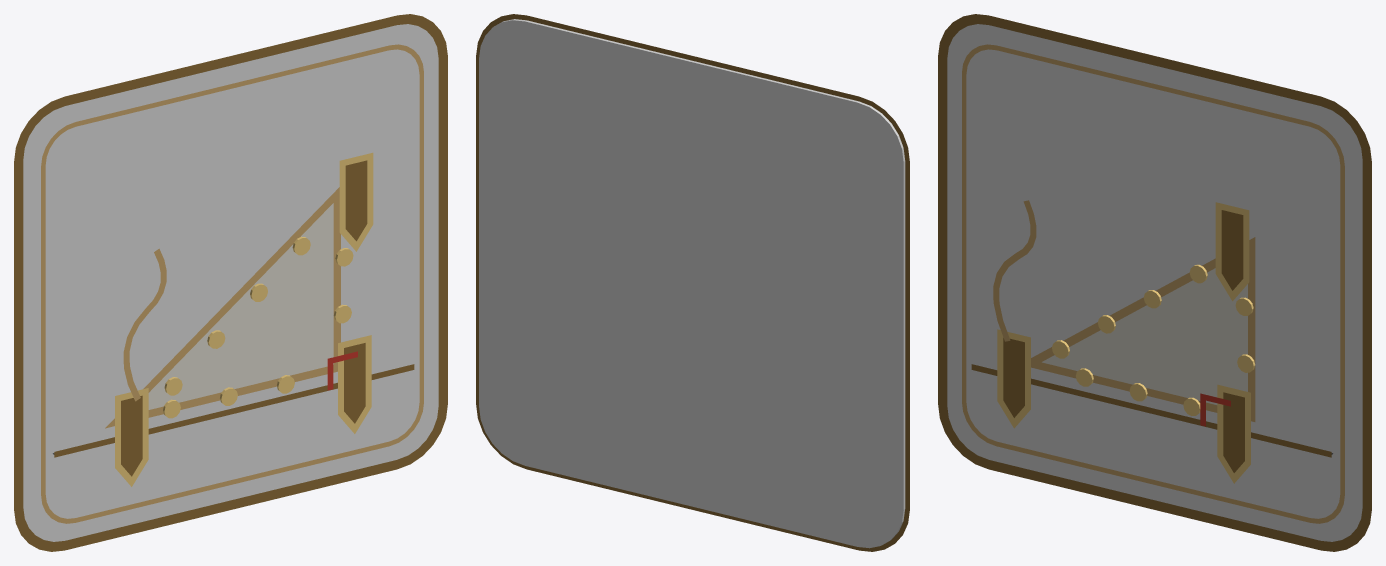
Rendered from obj-verevka-kolya.glb.
3 views of the same model, side by side, from view 1: azimuth 30°, elevation 25°; view 2: azimuth 150°, elevation 25°; view 3: azimuth 330°, elevation 25° (orthographic).
Visible parts, largest first — view 1: obj-verevka-kolya; view 2: obj-verevka-kolya; view 3: obj-verevka-kolya.
Boxes of the visible parts, box(x1,y1,x2,y2) form: obj-verevka-kolya: box(14, 14, 447, 551); obj-verevka-kolya: box(476, 14, 909, 551); obj-verevka-kolya: box(938, 14, 1371, 551).
Size of the model in its own units: 0.3917 by 0.3917 by 0.0451.
